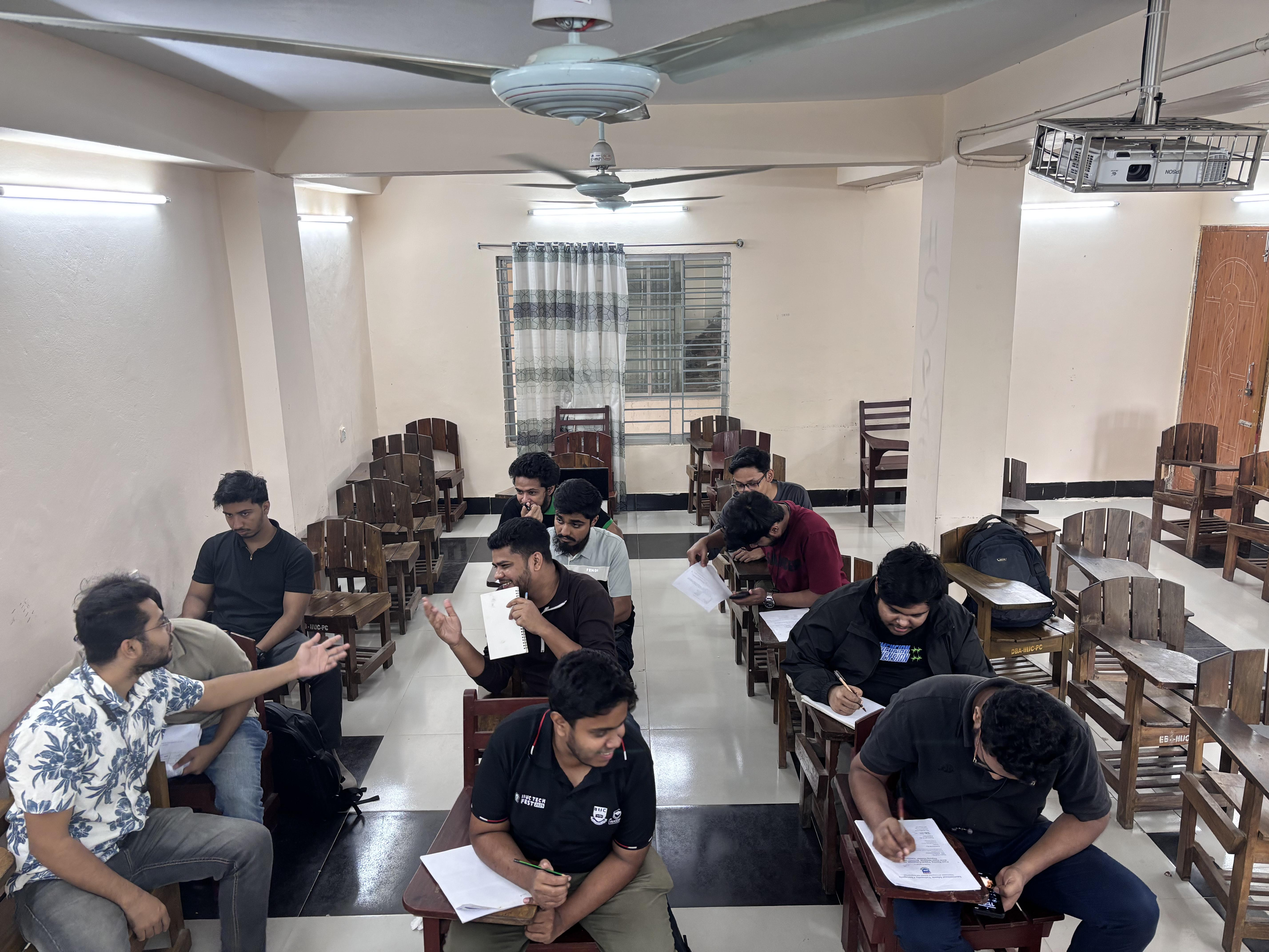exchanging_sheets: (670, 442, 864, 619)
no_cheating: (779, 541, 1003, 736)
side_talking: (3, 582, 354, 952), (415, 517, 632, 677)
suspicious_moving: (465, 636, 693, 952), (180, 467, 319, 642), (539, 478, 642, 597), (503, 448, 564, 521)
using_phone: (844, 661, 1164, 952)
